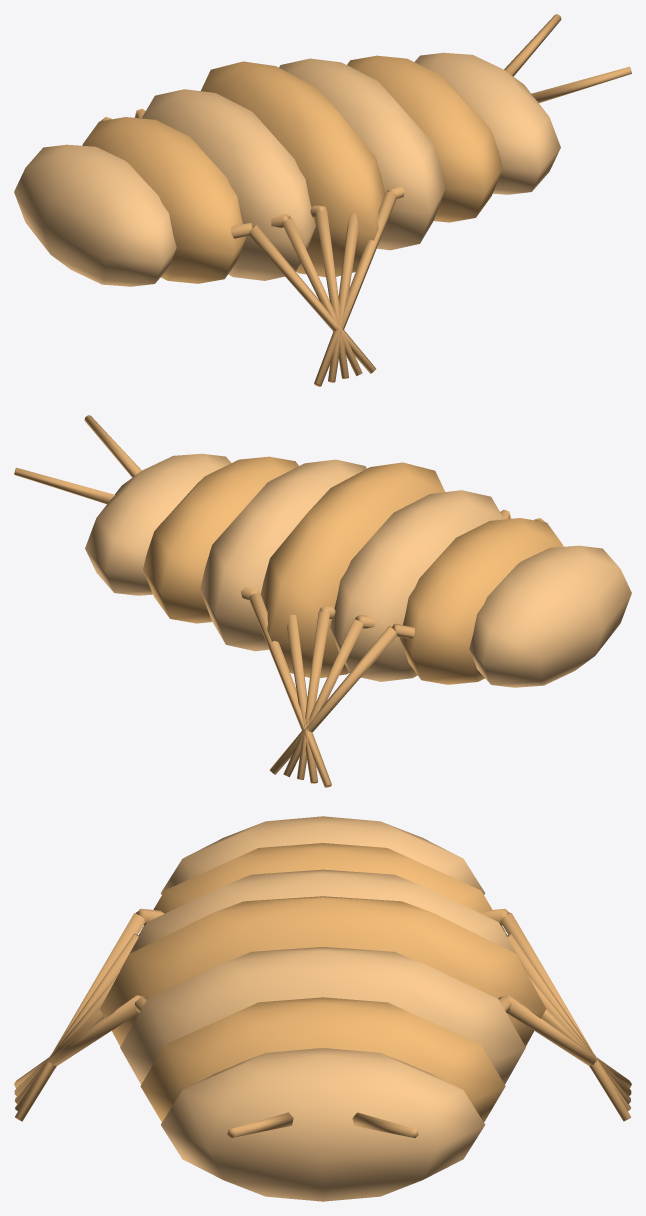
The model's file is orange-isopod.glb.
3 views of the same model, one above another, from view 1: azimuth 30°, elevation 25°; view 2: azimuth 150°, elevation 25°; view 3: azimuth 270°, elevation 25° (orthographic). The views are drawn at different scales.
Visible parts, largest first — view 1: e; view 2: e; view 3: e.
Part boxes in pixels (x1,y1,x2,y2): e: [14, 14, 631, 386]; e: [14, 415, 631, 787]; e: [14, 816, 631, 1201].
Size of the model in its own units: 0.2378 by 0.0802 by 0.1827.
